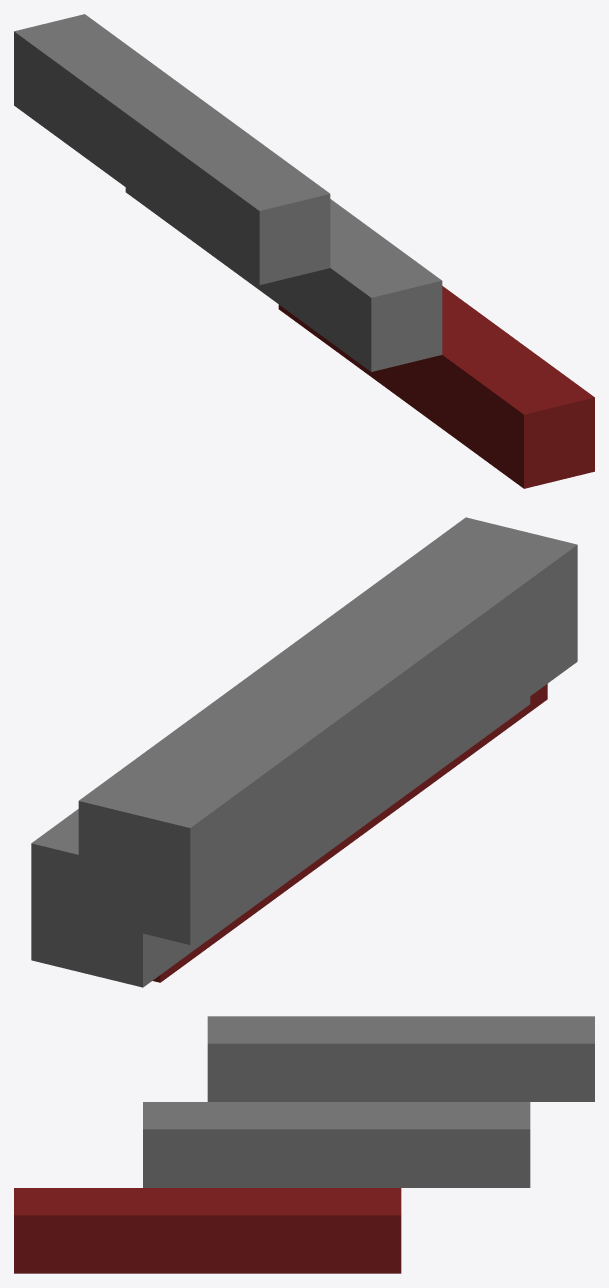
Rendered from Wing-21-Transtellar_ThrusterFin_R.obj.
3 renders of one model, top to bottom at view 1: azimuth 30°, elevation 25°; view 2: azimuth 150°, elevation 25°; view 3: azimuth 270°, elevation 25°, orthographic. The views are drawn at different scales.
Visible parts, largest first — view 1: Transtellar_ThrusterFin_R; view 2: Transtellar_ThrusterFin_R; view 3: Transtellar_ThrusterFin_R.
Part boxes in pixels (<box>): Transtellar_ThrusterFin_R: <box>14,14,594,488</box>; Transtellar_ThrusterFin_R: <box>31,517,577,987</box>; Transtellar_ThrusterFin_R: <box>14,1016,594,1273</box>.
Size of the model in its own units: 0.3 by 0.3 by 0.9.
1 material, 1 textured.
